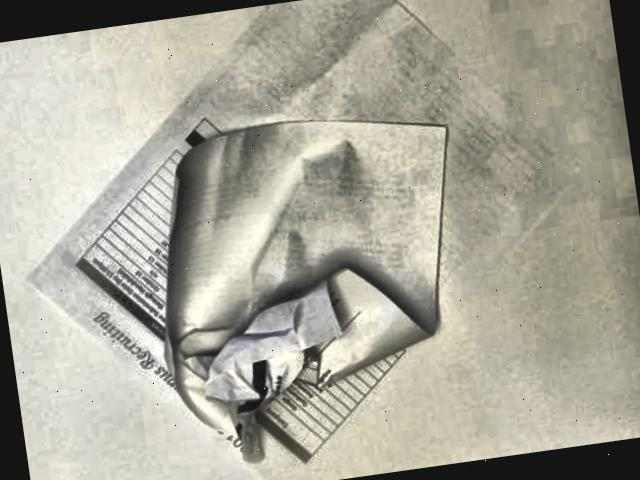Paper: (19, 0, 584, 480)
